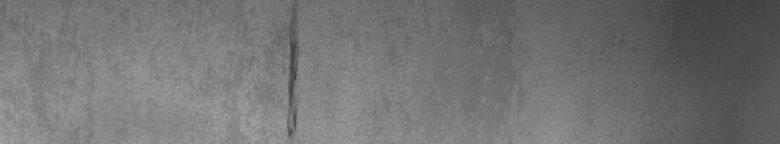hd: (281, 9, 304, 136)
